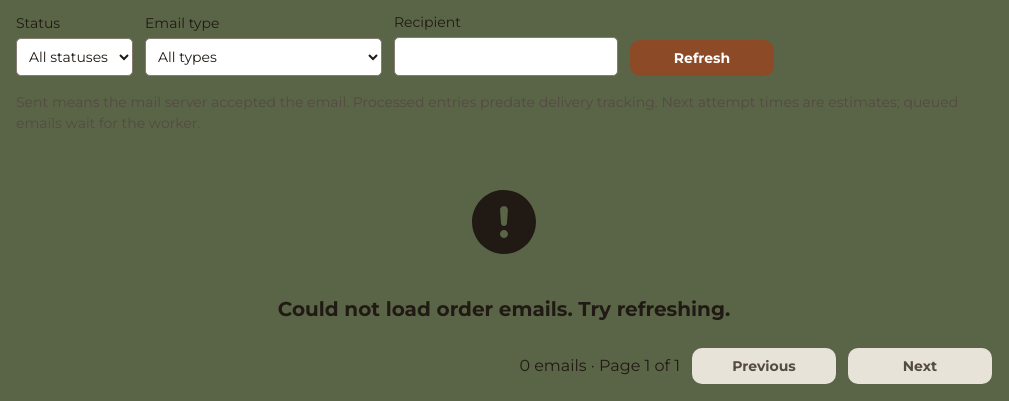
it: Order emails › keeps refresh available after a request fails
The width and height of the screenshot is (1009, 401).
Expected: the text "Could not load order emails. Try refreshing." is shown, x1=278 y1=294 x2=730 y2=324
Click the button "Refresh". click: [702, 58]
box: x1=630 y1=40 x2=774 y2=76
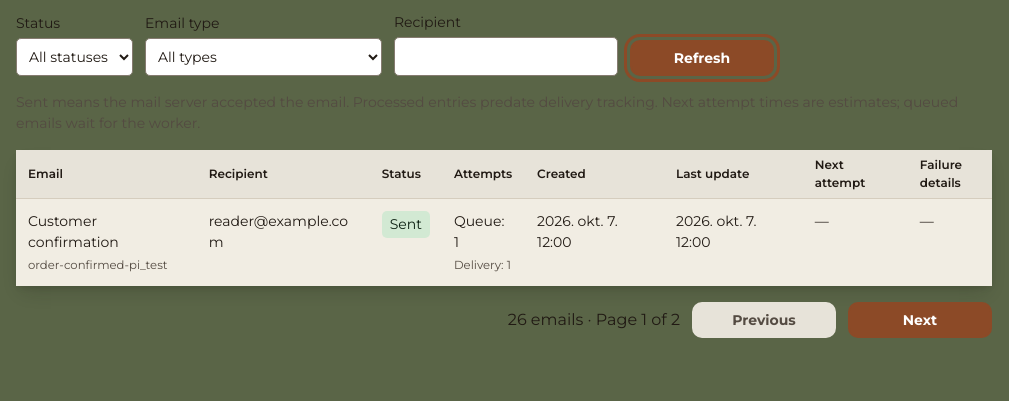
Expected: the text "reader@example.com" is shown, x1=197 y1=198 x2=370 y2=286
